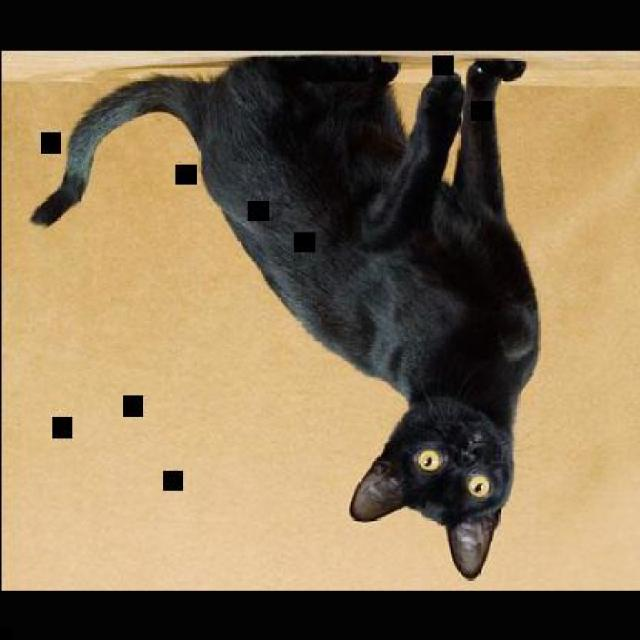unauthorized: (29, 54, 540, 578)
